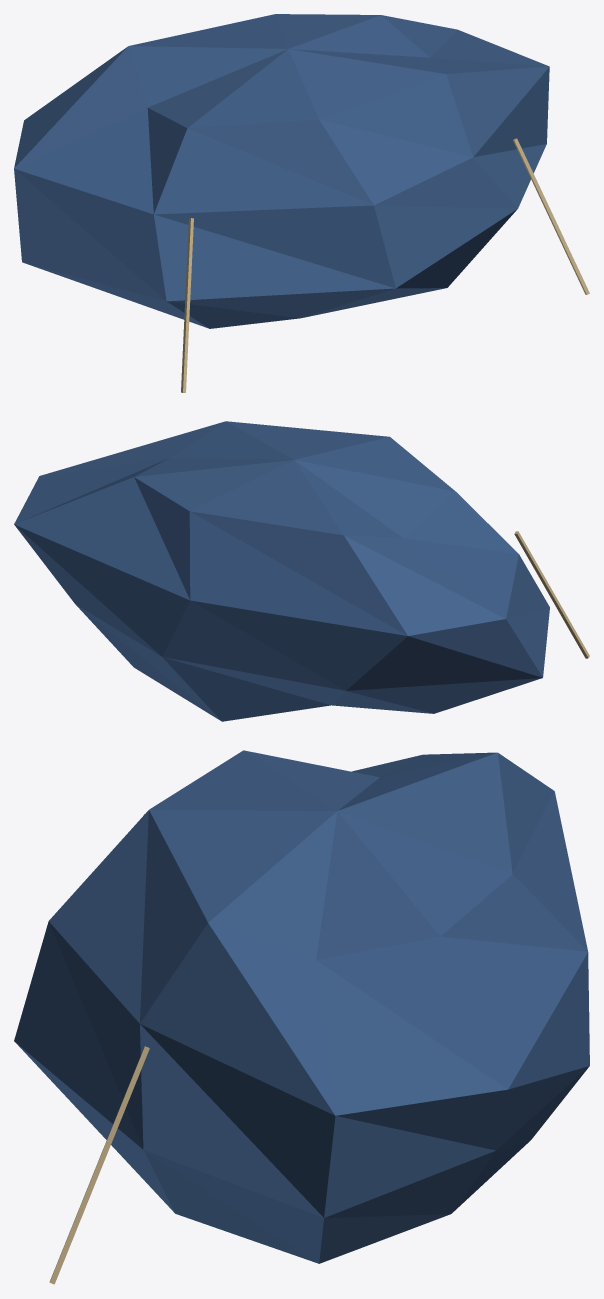
File: tarp_covered_pile.glb
The picture shows the model from 3 angles, top to bottom: view 1: azimuth 30°, elevation 25°; view 2: azimuth 150°, elevation 25°; view 3: azimuth 270°, elevation 25°; orthographic projection. The views are drawn at different scales.
Parts seen in each view (by area): view 1: tarp_covered_pile; view 2: tarp_covered_pile; view 3: tarp_covered_pile.
Part boxes in pixels (x1,y1,x2,y2): tarp_covered_pile: (14, 14, 589, 392); tarp_covered_pile: (14, 421, 589, 721); tarp_covered_pile: (14, 750, 589, 1284).
Size of the model in its own units: 2.32 by 1 by 1.51.
